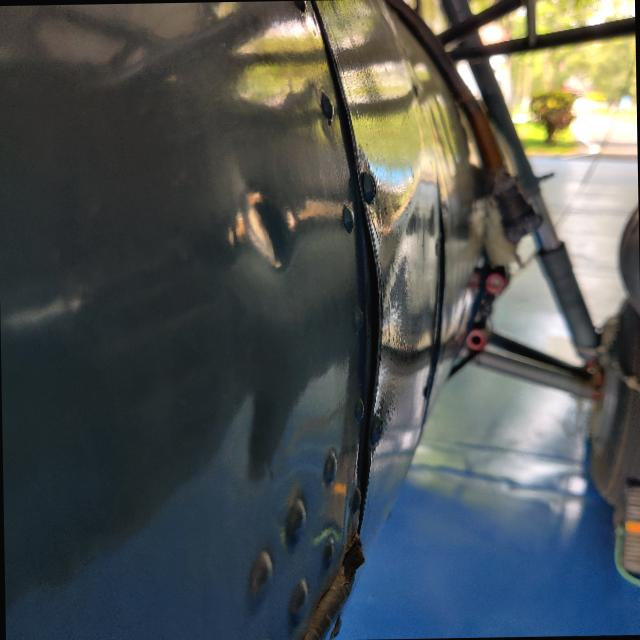dent: (214, 178, 316, 290), (201, 378, 297, 495)
